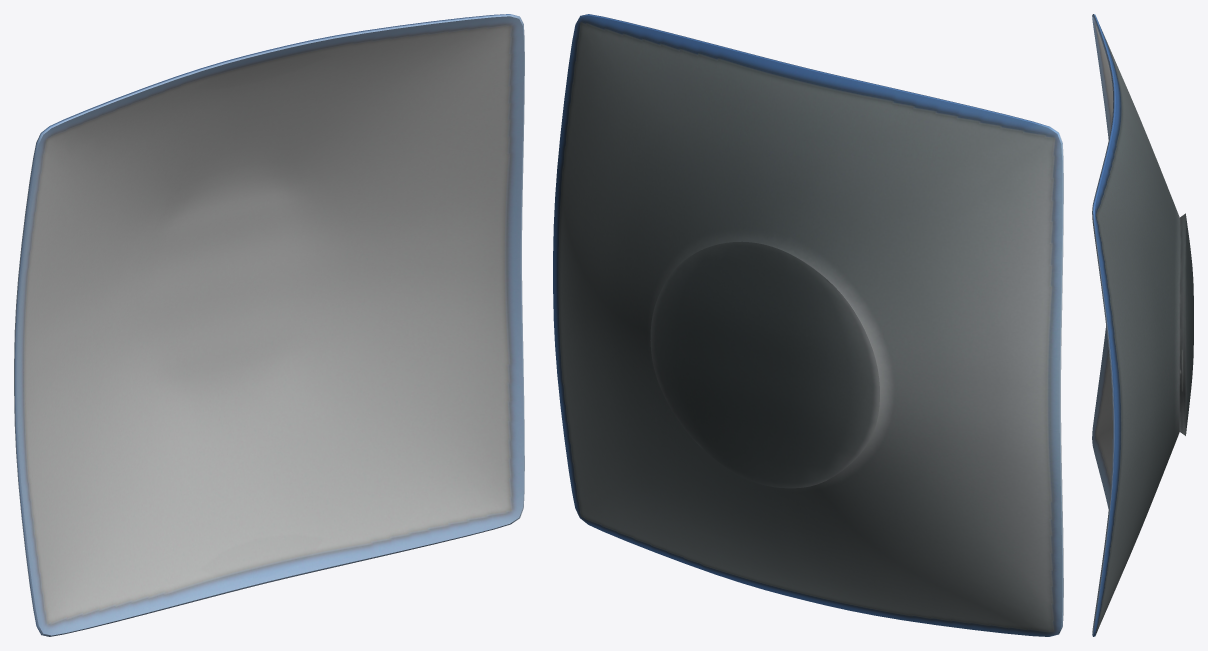
File: Square.obj
3 renders of one model, left to right at view 1: azimuth 30°, elevation 25°; view 2: azimuth 150°, elevation 25°; view 3: azimuth 270°, elevation 25°, orthographic. The views are drawn at different scales.
Bounding box in the file's own units: 14.69 × 14.73 × 3.02.
